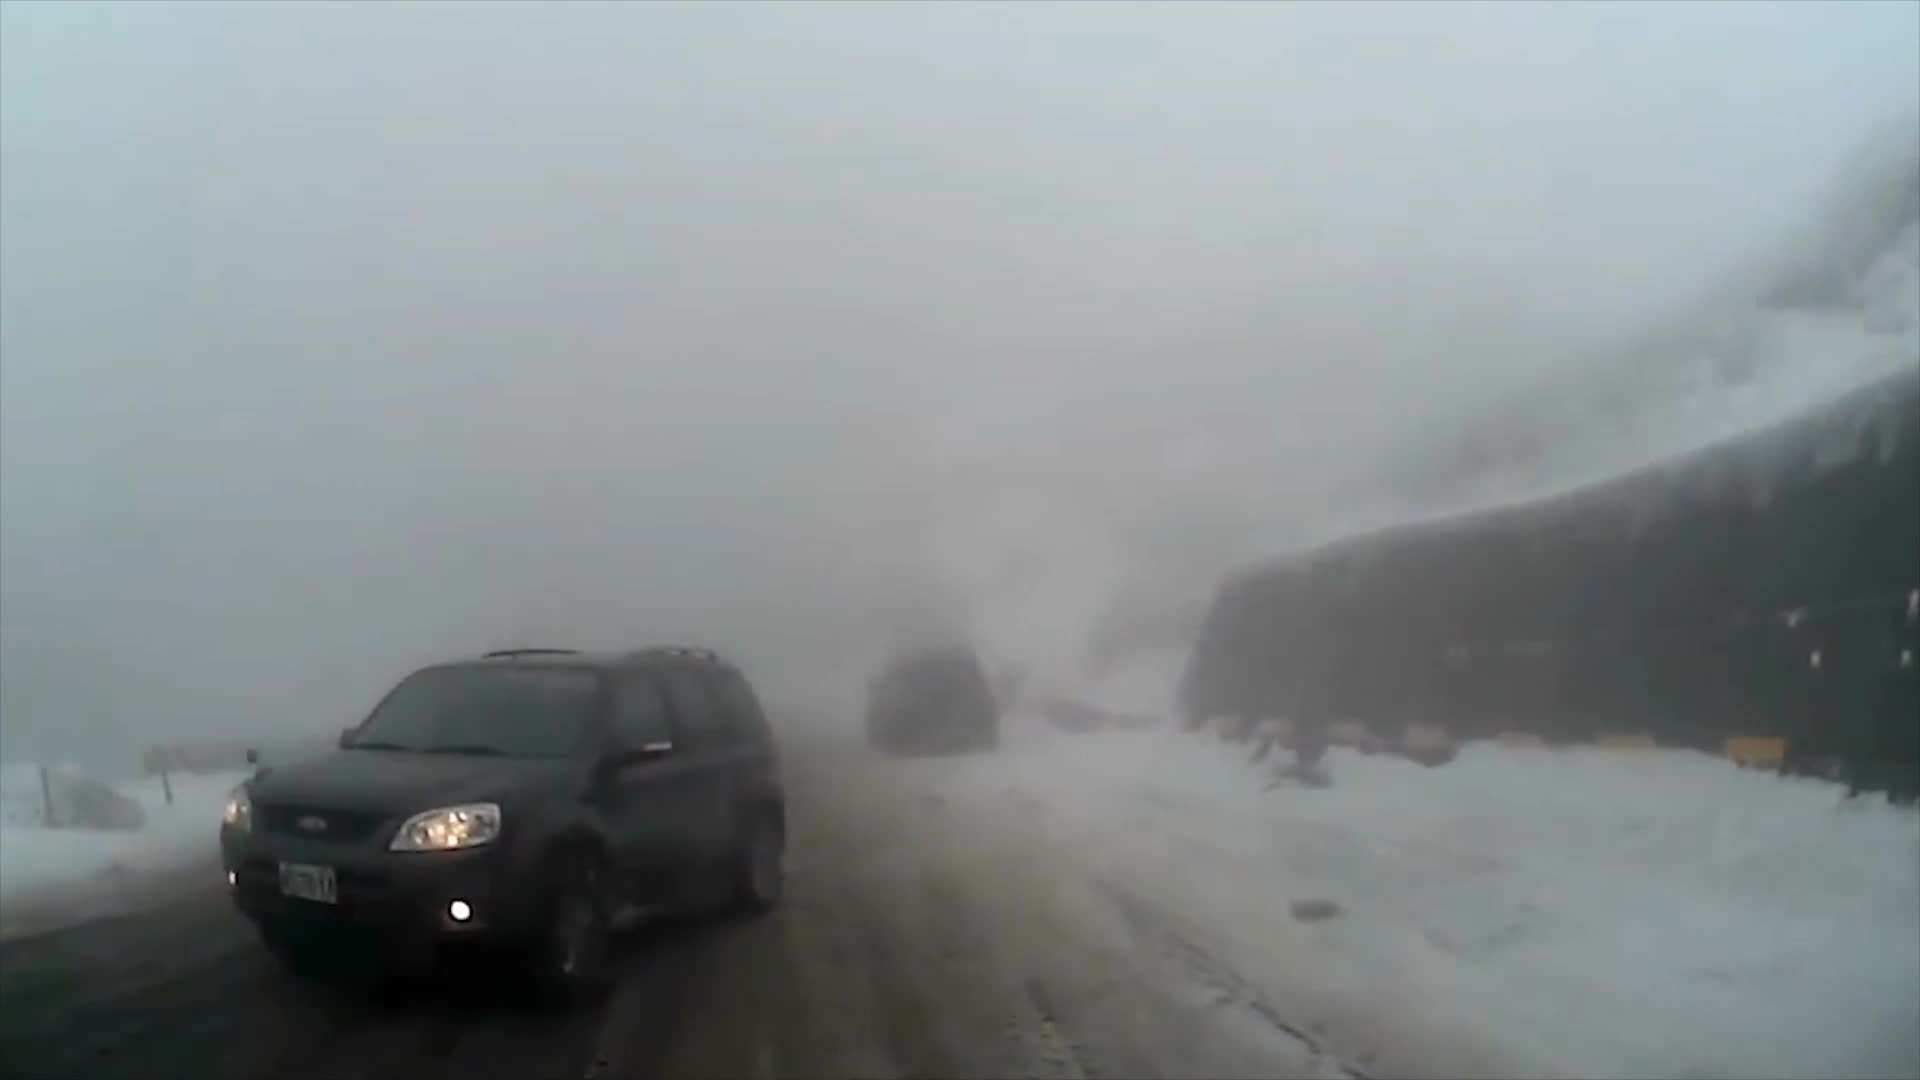vehicle: (218, 640, 791, 1000), (858, 644, 997, 761)
